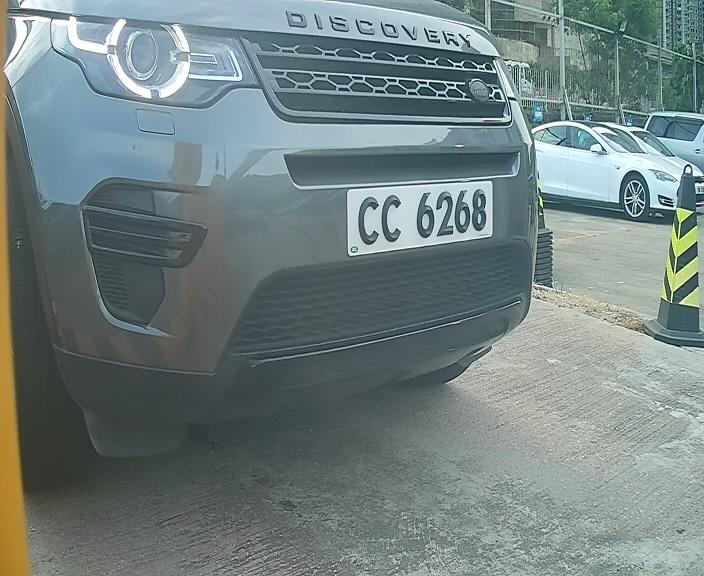Car: (13, 3, 607, 415)
License Plate: (337, 168, 507, 260)
